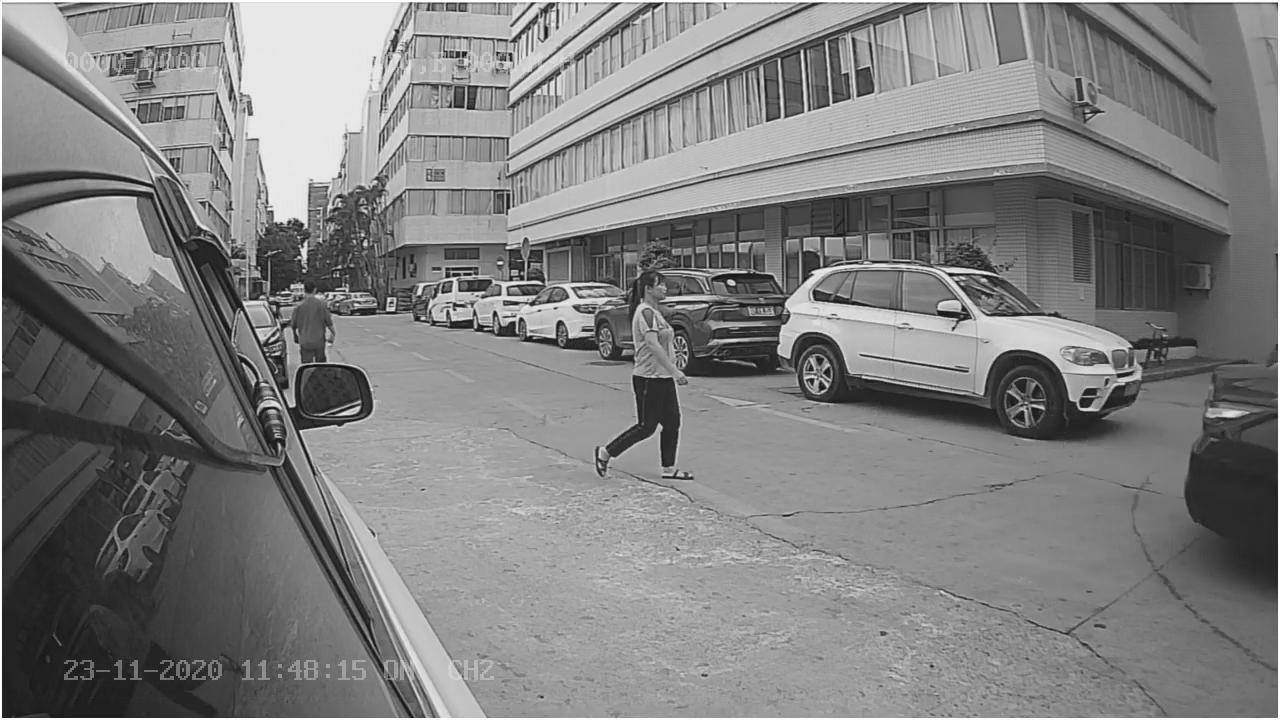person: (595, 263, 700, 485)
